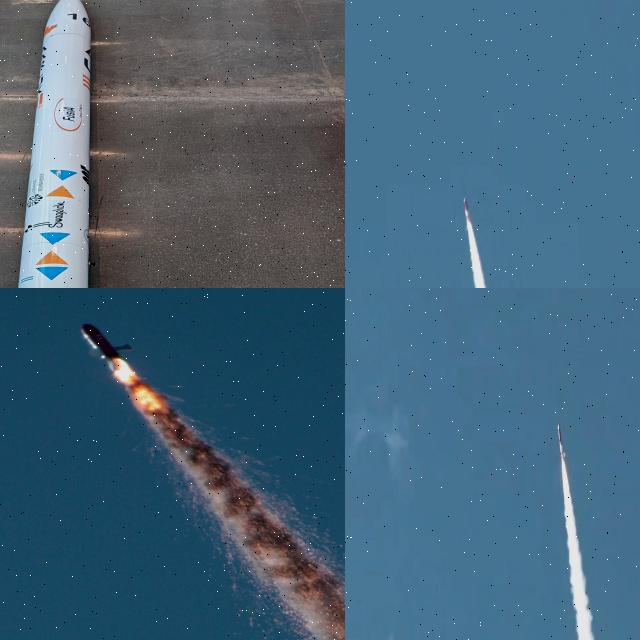Rocket: (18, 0, 91, 288), (79, 322, 134, 372), (463, 197, 473, 225), (558, 424, 565, 459)
